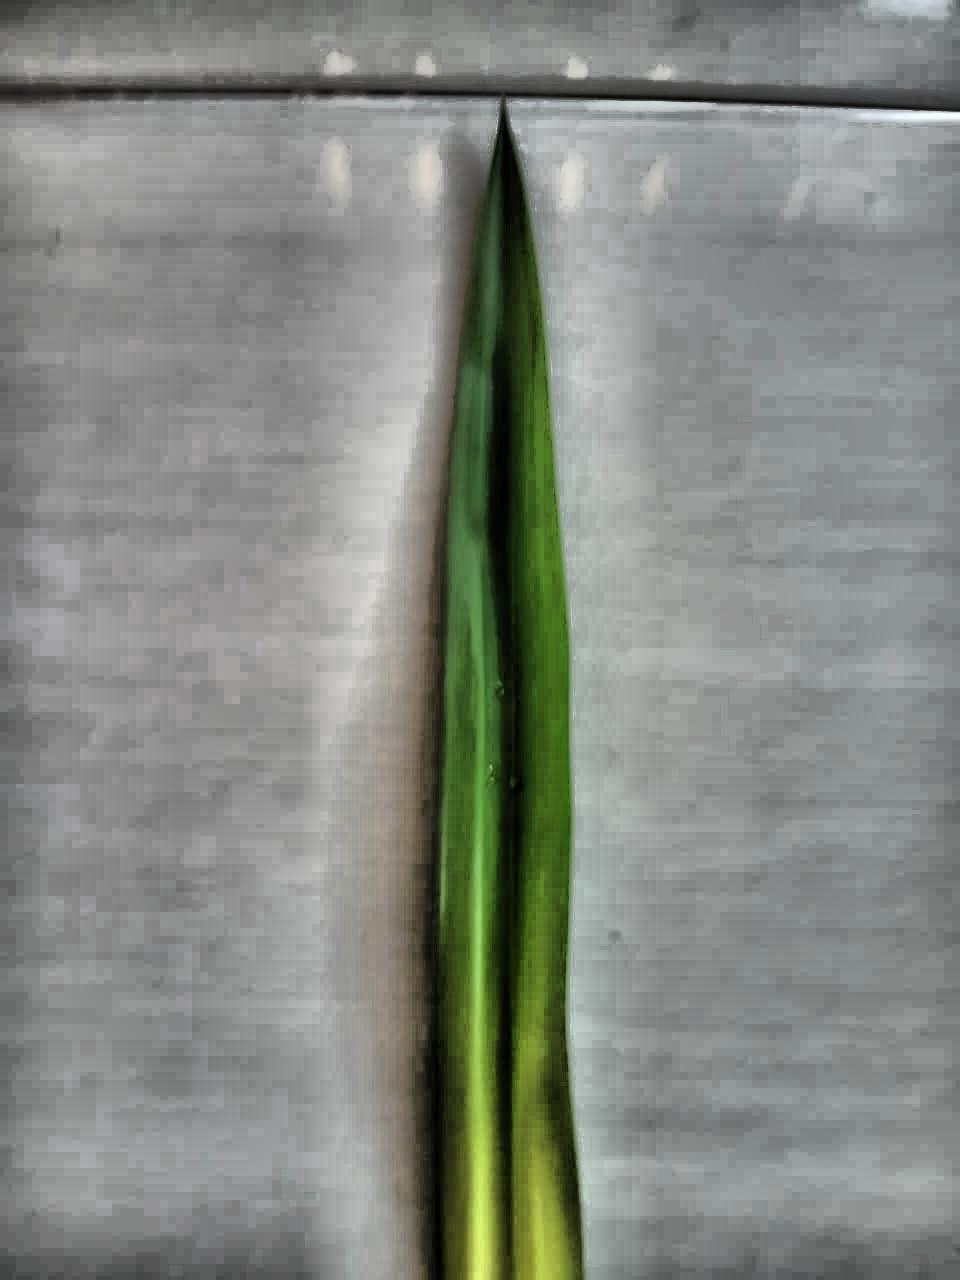daun pandan: (433, 109, 583, 1279)
